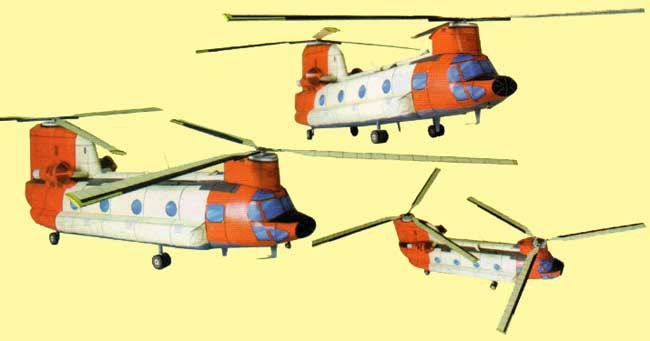chinook: (13, 107, 322, 272), (240, 7, 615, 138), (353, 167, 636, 327)
